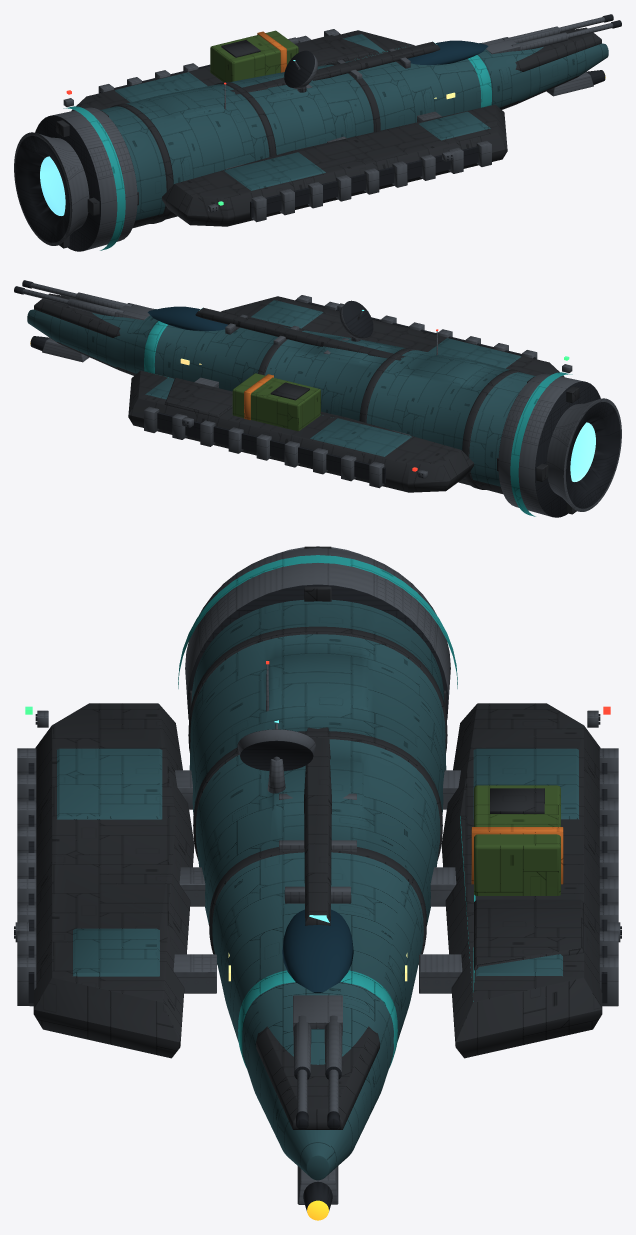
The model's file is kestrel_lod1.glb.
The picture shows the model from 3 angles, top to bottom: view 1: azimuth 30°, elevation 25°; view 2: azimuth 150°, elevation 25°; view 3: azimuth 270°, elevation 25°; orthographic projection. The views are drawn at different scales.
Parts seen in each view (by area): view 1: LOD1_Hull, LOD1_Armor, LOD1_Mechanical, LOD1_MechanicalDark, LOD1_HOOK_SECONDARY_POD_Hull_green, LOD1_Livery, LOD1_HOOK_ARMOR_PORT_Armor, LOD1_CANOPY, LOD1_HOOK_DRIVE_CORE, LOD1_MOTION_KESTREL_DISH_STEM_HOOK_SENSOR_DISH_MechanicalDar, LOD1_HOOK_SECONDARY_POD_Armor; view 2: LOD1_Hull, LOD1_Armor, LOD1_Mechanical, LOD1_MechanicalDark, LOD1_HOOK_SECONDARY_POD_Hull_green, LOD1_Livery, LOD1_HOOK_ARMOR_PORT_Armor, LOD1_CANOPY, LOD1_HOOK_DRIVE_CORE, LOD1_MOTION_KESTREL_DISH_STEM_HOOK_SENSOR_DISH_MechanicalDar, LOD1_HOOK_SECONDARY_POD_Armor, LOD1_HOOK_SECONDARY_POD_Warning; view 3: LOD1_Hull, LOD1_Armor, LOD1_Mechanical, LOD1_HOOK_SECONDARY_POD_Hull_green, LOD1_HOOK_ARMOR_PORT_Armor, LOD1_MechanicalDark, LOD1_Livery, LOD1_CANOPY, LOD1_MOTION_KESTREL_DISH_STEM_HOOK_SENSOR_DISH_MechanicalDar, LOD1_HOOK_SECONDARY_POD_Armor, LOD1_HOOK_SECONDARY_POD_Warning, LOD1_MOTION_KESTREL_DISH_STEM_HOOK_SENSOR_DISH_Mechanical.
Boxes of the visible parts, box(x1,y1,x2,y2) form: LOD1_Hull: box(100, 34, 608, 220); LOD1_Armor: box(56, 27, 607, 248); LOD1_Mechanical: box(14, 17, 613, 250); LOD1_MechanicalDark: box(15, 14, 621, 251); LOD1_HOOK_SECONDARY_POD_Hull_green: box(210, 30, 298, 81); LOD1_Livery: box(63, 48, 491, 250); LOD1_HOOK_ARMOR_PORT_Armor: box(295, 35, 378, 66); LOD1_CANOPY: box(407, 40, 488, 65); LOD1_HOOK_DRIVE_CORE: box(40, 156, 65, 215); LOD1_MOTION_KESTREL_DISH_STEM_HOOK_SENSOR_DISH_MechanicalDar: box(284, 50, 314, 87); LOD1_HOOK_SECONDARY_POD_Armor: box(221, 40, 260, 57); LOD1_Hull: box(27, 300, 535, 486); LOD1_Armor: box(28, 293, 579, 514); LOD1_Mechanical: box(22, 283, 621, 516); LOD1_MechanicalDark: box(14, 280, 620, 517); LOD1_HOOK_SECONDARY_POD_Hull_green: box(232, 373, 320, 431); LOD1_Livery: box(144, 321, 572, 516); LOD1_HOOK_ARMOR_PORT_Armor: box(164, 378, 232, 417); LOD1_CANOPY: box(147, 306, 227, 331); LOD1_HOOK_DRIVE_CORE: box(570, 422, 595, 481); LOD1_MOTION_KESTREL_DISH_STEM_HOOK_SENSOR_DISH_MechanicalDar: box(342, 300, 373, 337); LOD1_HOOK_SECONDARY_POD_Armor: box(270, 382, 309, 400); LOD1_HOOK_SECONDARY_POD_Warning: box(244, 374, 273, 419); LOD1_Hull: box(57, 600, 579, 1180); LOD1_Armor: box(33, 546, 602, 1166); LOD1_Mechanical: box(15, 546, 620, 1204); LOD1_HOOK_SECONDARY_POD_Hull_green: box(474, 785, 560, 895); LOD1_HOOK_ARMOR_PORT_Armor: box(474, 899, 583, 970); LOD1_MechanicalDark: box(14, 584, 621, 1129); LOD1_Livery: box(178, 555, 475, 1067); LOD1_CANOPY: box(282, 909, 353, 992); LOD1_MOTION_KESTREL_DISH_STEM_HOOK_SENSOR_DISH_MechanicalDar: box(240, 729, 313, 771); LOD1_HOOK_SECONDARY_POD_Armor: box(490, 788, 544, 813); LOD1_HOOK_SECONDARY_POD_Warning: box(471, 827, 563, 884); LOD1_MOTION_KESTREL_DISH_STEM_HOOK_SENSOR_DISH_Mechanical: box(237, 723, 315, 760).
Size of what is drawn, in the model's own units: 27.52 by 6.82 by 13.26.
Materials: 15 (8 with a texture image).
